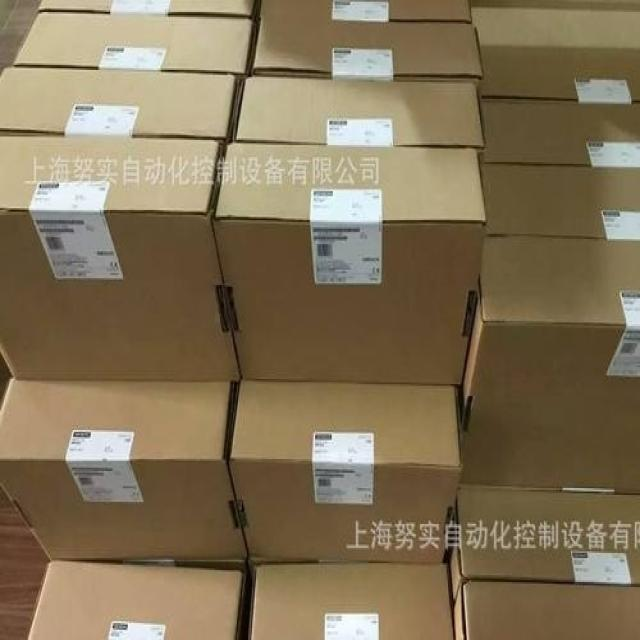box: (212, 142, 486, 384), (0, 131, 241, 382), (457, 236, 640, 497), (0, 381, 248, 561), (229, 384, 462, 565), (445, 485, 640, 604), (230, 77, 485, 167), (0, 65, 239, 137), (27, 561, 244, 640), (471, 2, 640, 102), (248, 565, 454, 640), (13, 10, 256, 73), (248, 19, 483, 79), (481, 162, 640, 239), (481, 96, 640, 167), (452, 580, 640, 640), (256, 0, 475, 22), (37, 0, 261, 19)
